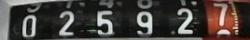digits: (213, 2, 232, 38), (135, 10, 154, 38), (176, 7, 194, 35), (96, 9, 114, 37), (57, 10, 75, 37), (22, 15, 37, 40)
